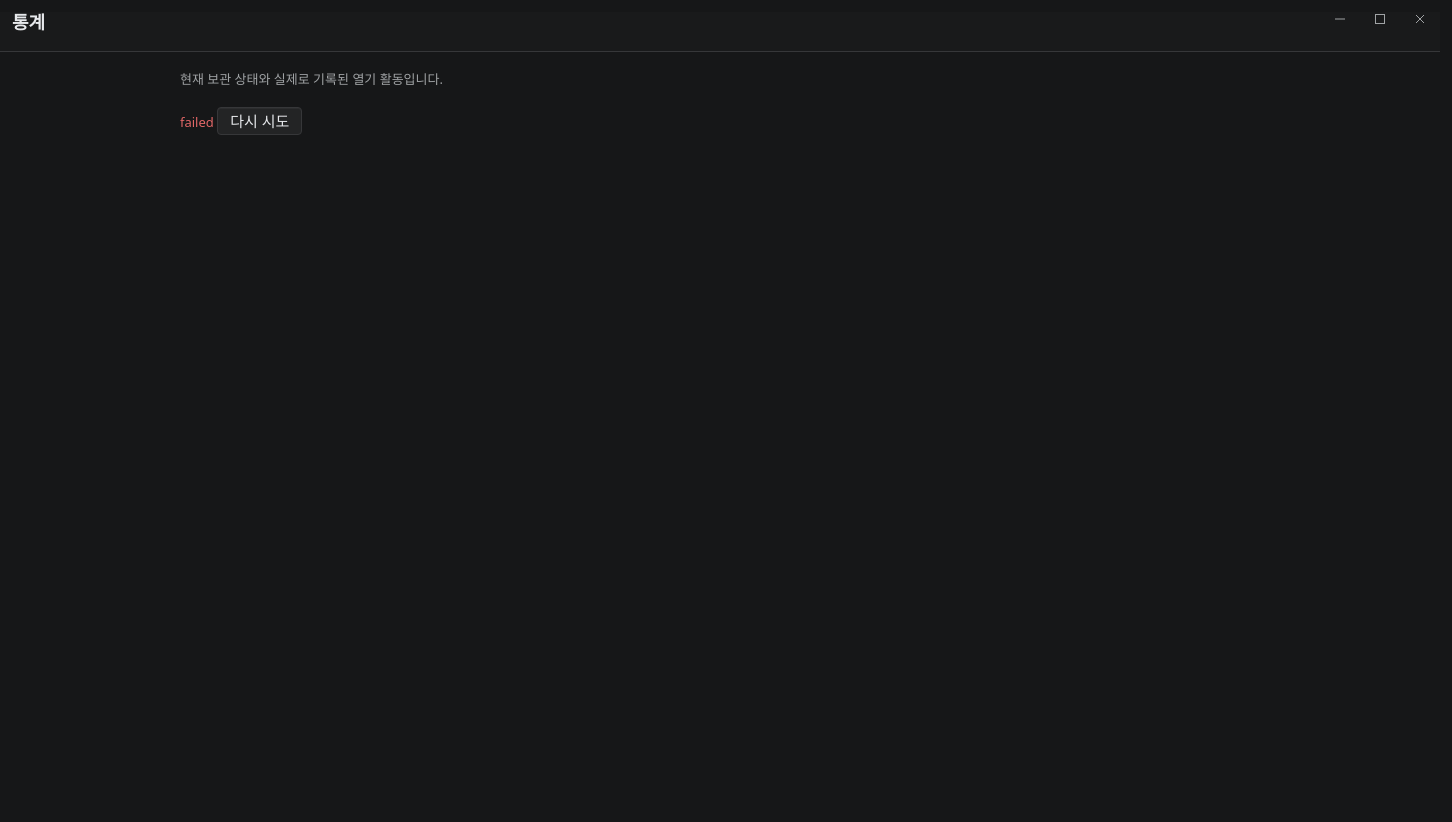
Test case: StatisticsPanel › offers a retry only after loading fails
Step 1. Click the button "다시 시도" → (260, 121), box [217, 107, 302, 135]
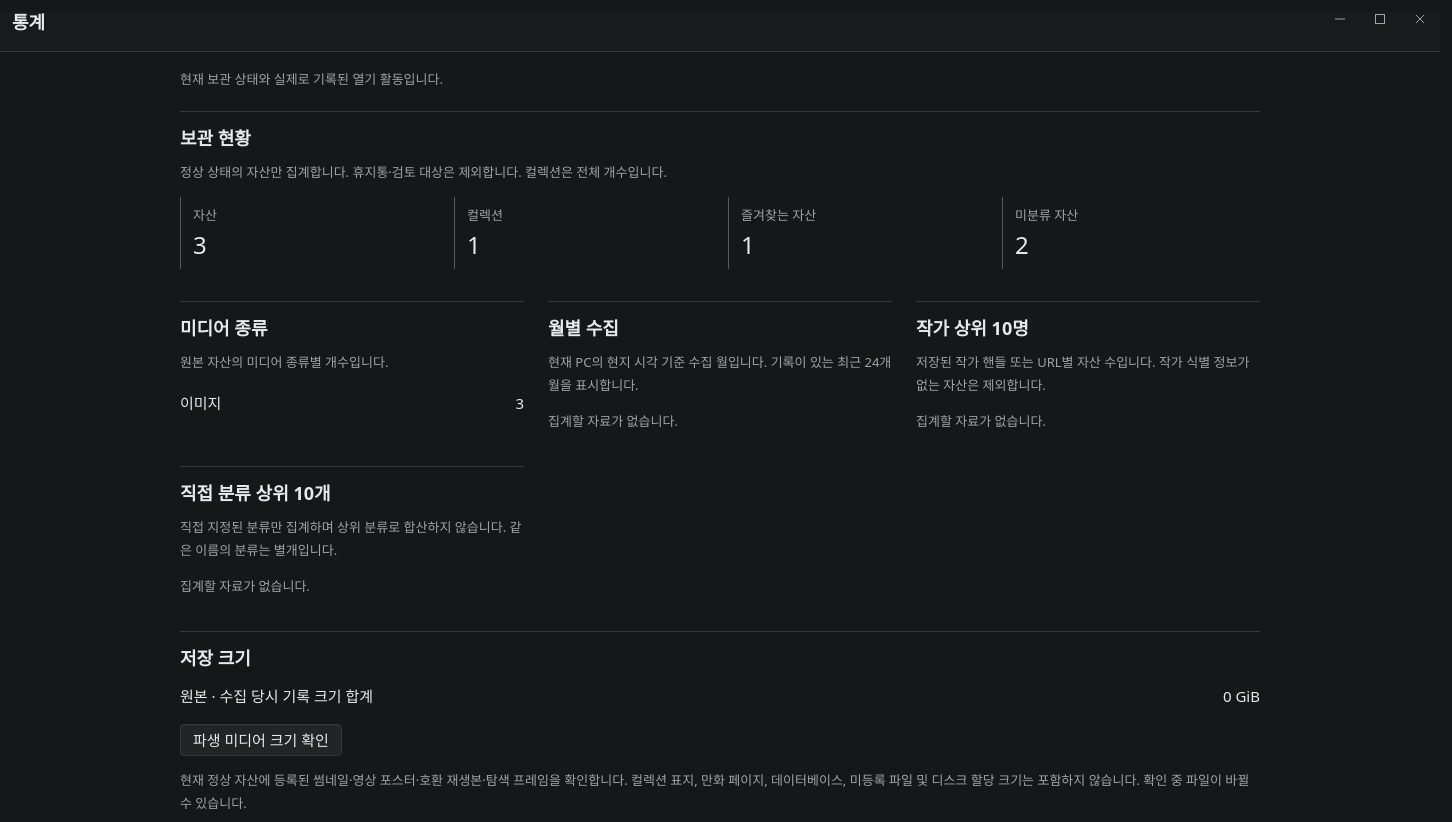
Now the heading "보관 현황" is shown, box [180, 126, 251, 150]
Now the button "다시 시도" is gone
